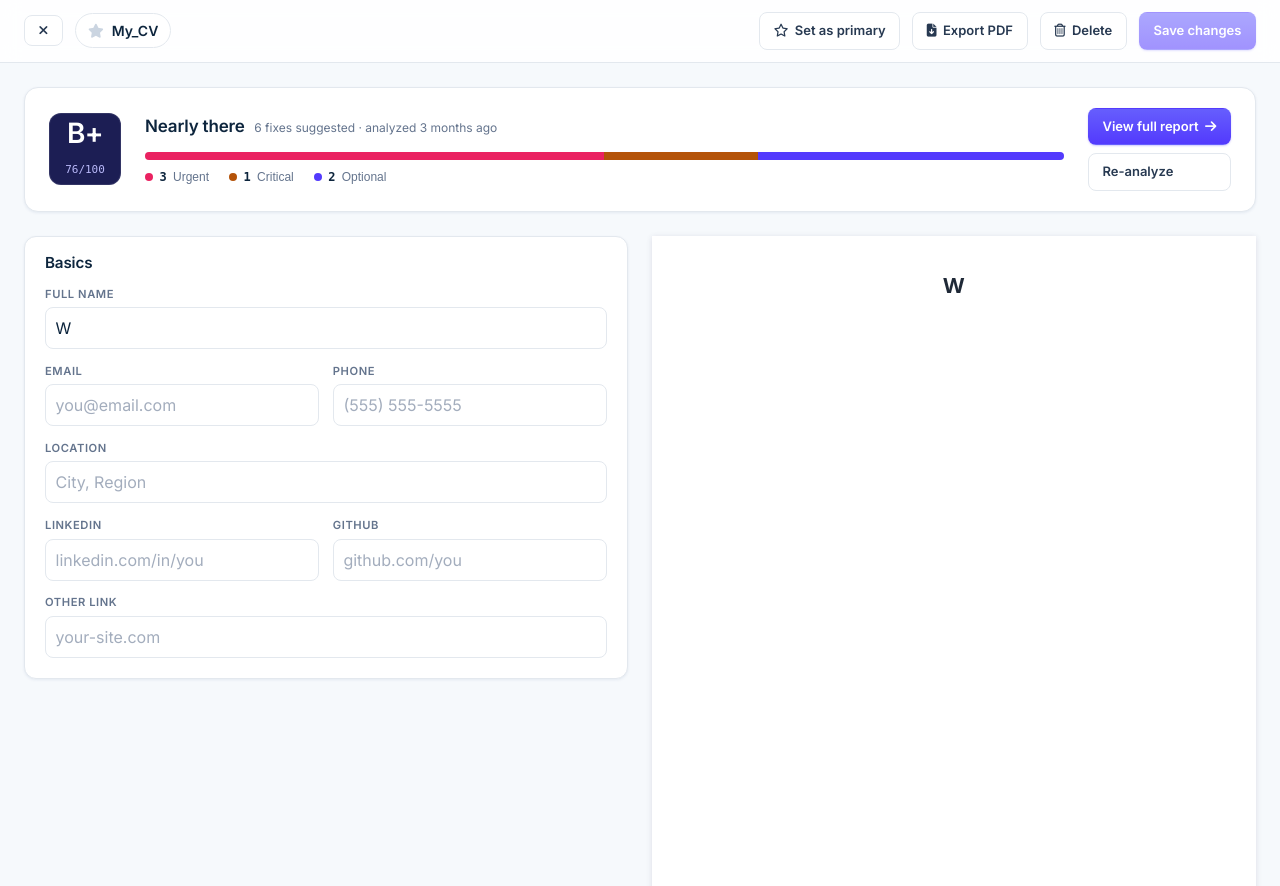
Property 10: analysis report rendering › opens the full report with evidence quoted verbatim and a concrete fix
This screenshot has width=1280, height=886.
What coordinates should you click on to do the following:
click the button "View full report"
I would click on:
 (1159, 126)
Its box is [1088,108,1231,145].
(page scrolled)
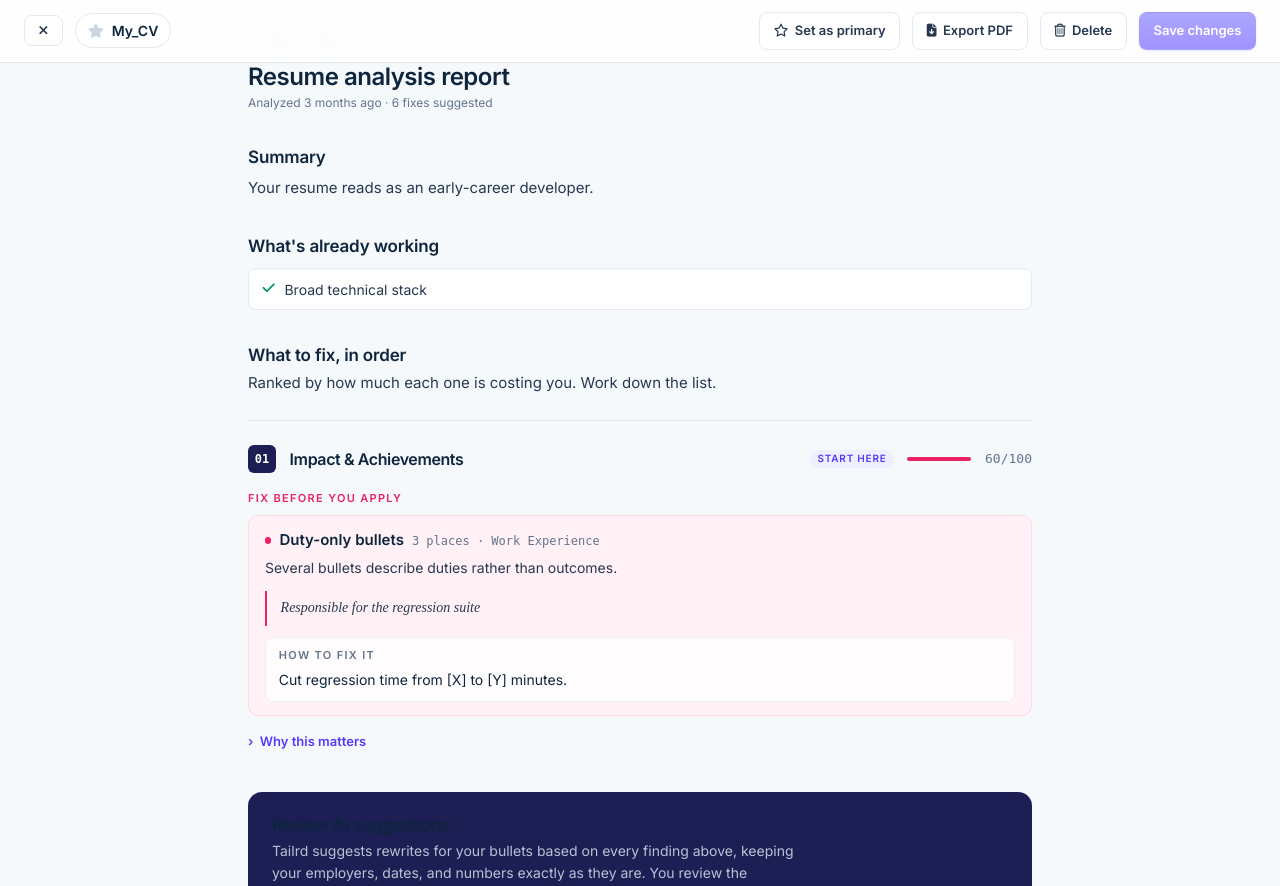
Result: the text "Your resume reads as an early-career developer." is shown at [248,178,594,197]
Result: the text "Broad technical stack" is shown at [284,279,427,300]
Result: the text "Duty-only bullets" is shown at [279,529,404,552]
